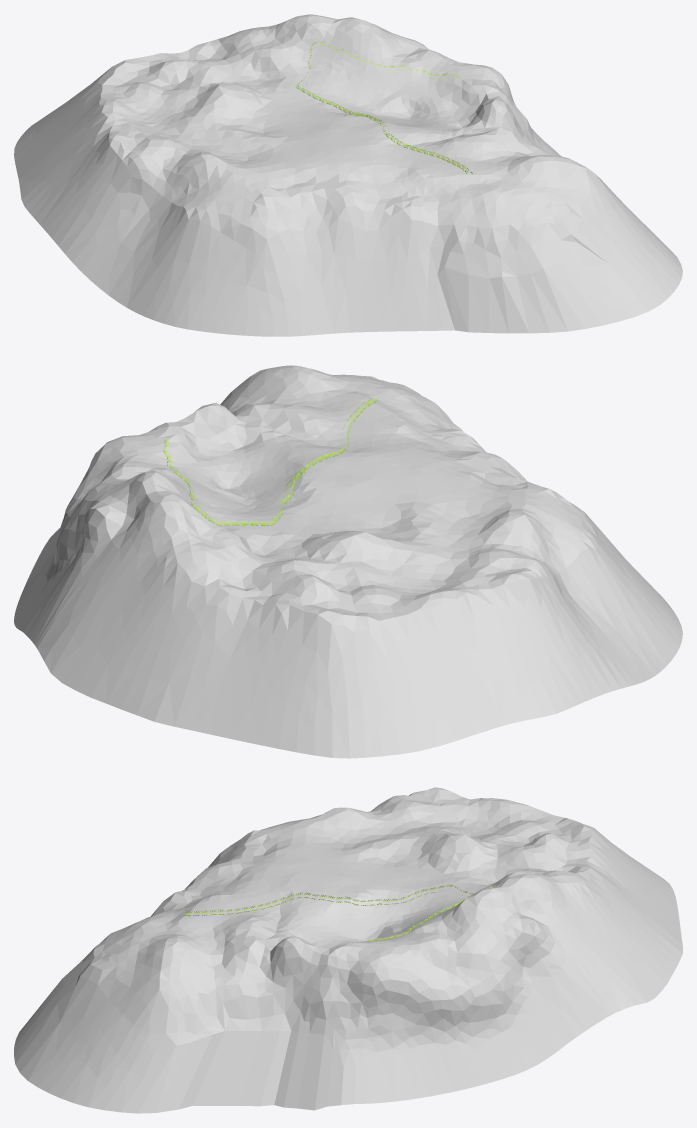
Rendered from Aquila_Island_1.fbx.
3 renders of one model, top to bottom at view 1: azimuth 30°, elevation 25°; view 2: azimuth 150°, elevation 25°; view 3: azimuth 270°, elevation 25°, orthographic. The views are drawn at different scales.
Parts seen in each view (by area): view 1: AquilaIsland, Circle; view 2: AquilaIsland, Circle; view 3: AquilaIsland, Circle.
Boxes of the visible parts, x1,y1,x2,y2 form: AquilaIsland: (14,14,682,336); Circle: (296,42,472,173); AquilaIsland: (14,365,682,758); Circle: (163,398,377,526); AquilaIsland: (14,787,682,1113); Circle: (185,885,495,940).
Bounding box in the file's own units: 33847 × 9621 × 38932.
Materials: 1 (1 with a texture image).
